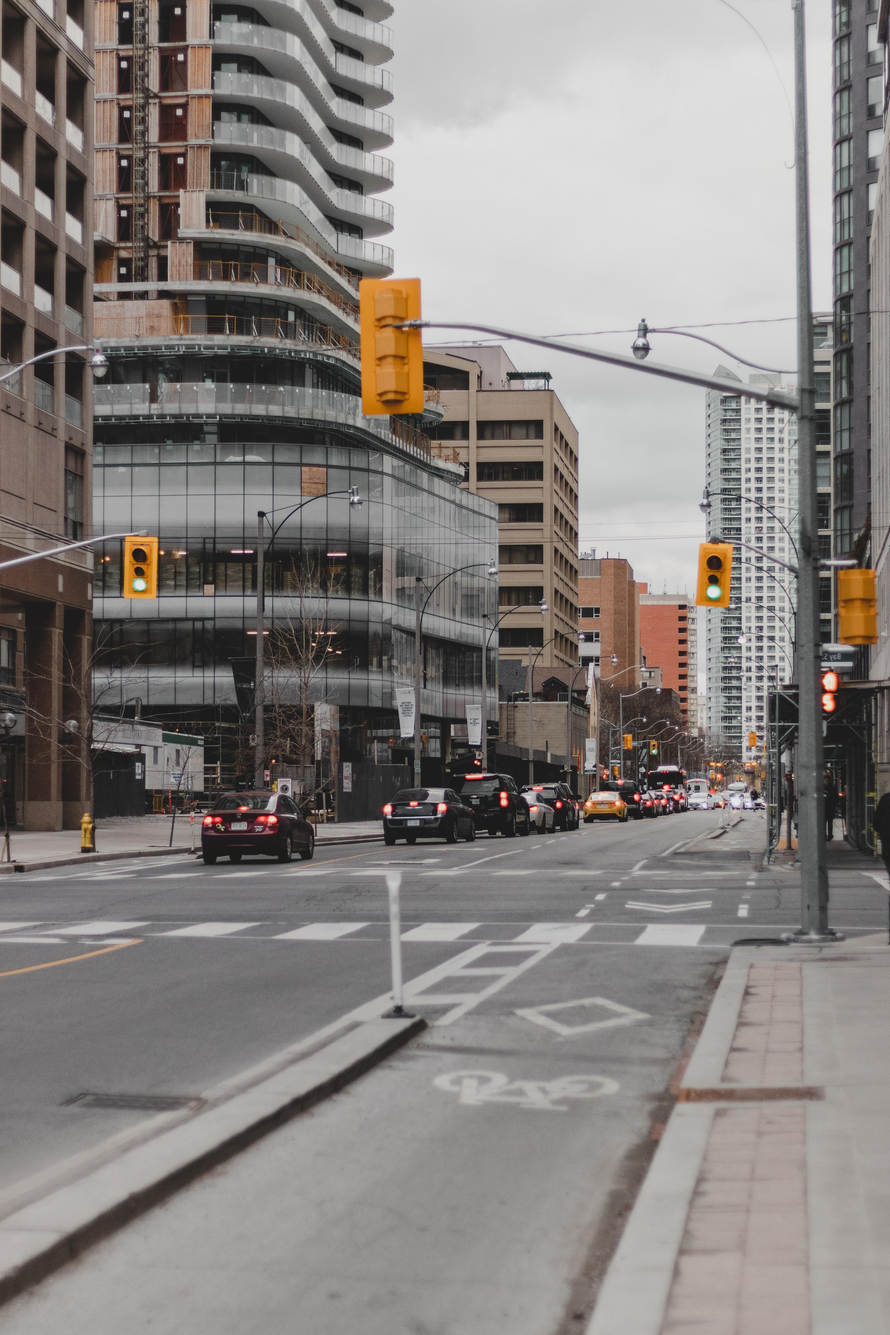Traffic light green: (687, 532, 740, 608)
